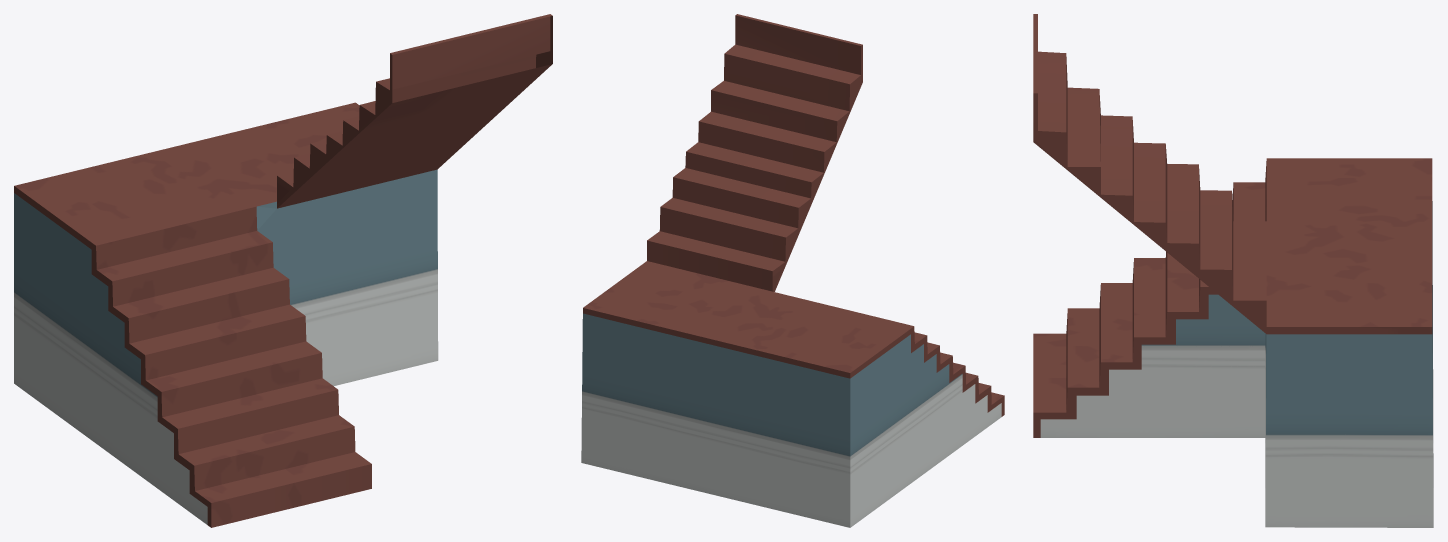
The model's file is SM_Bld_House_Interior_Stairs_03.fbx.
3 views of the same model, side by side, from view 1: azimuth 30°, elevation 25°; view 2: azimuth 150°, elevation 25°; view 3: azimuth 270°, elevation 25° (orthographic). The views are drawn at different scales.
Visible parts, largest first — view 1: SM_Bld_House_Interior_Stairs_03; view 2: SM_Bld_House_Interior_Stairs_03; view 3: SM_Bld_House_Interior_Stairs_03.
Boxes of the visible parts, bbox=[...] form: SM_Bld_House_Interior_Stairs_03: bbox=[14, 14, 552, 527]; SM_Bld_House_Interior_Stairs_03: bbox=[581, 14, 1004, 527]; SM_Bld_House_Interior_Stairs_03: bbox=[1033, 14, 1433, 527].
Size of the model in its own units: 251 by 300 by 251.
